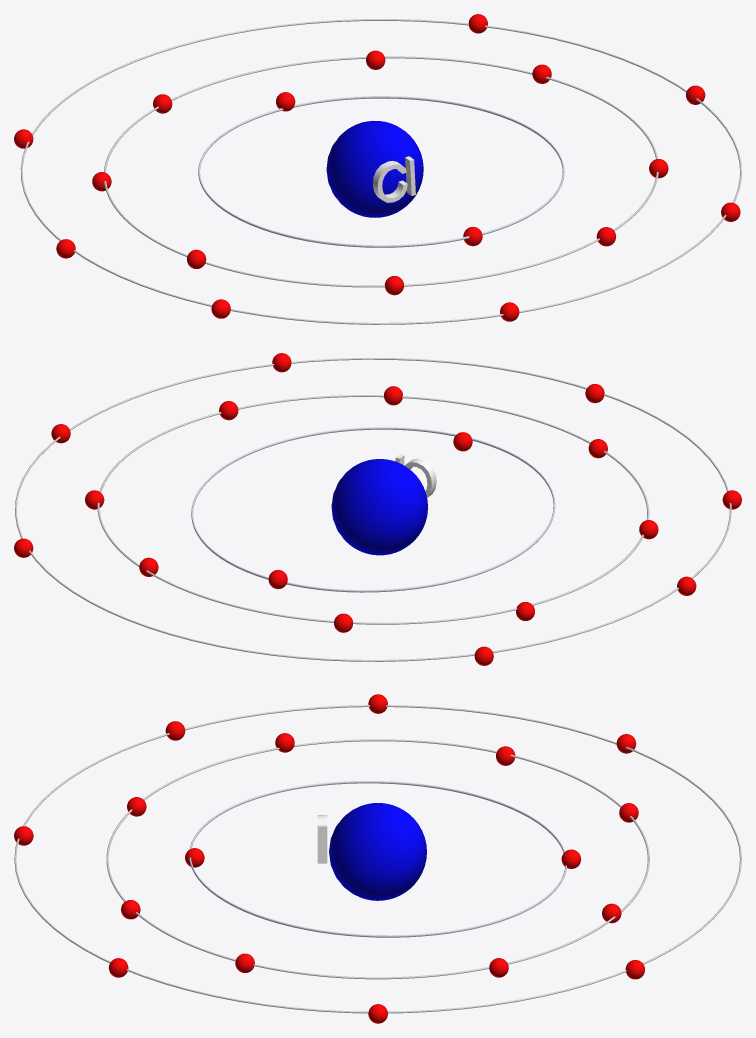
3 views of the same model, one above another, from view 1: azimuth 30°, elevation 25°; view 2: azimuth 150°, elevation 25°; view 3: azimuth 270°, elevation 25° (orthographic).
Parts seen in each view (by area): view 1: Sphere, Torus3, Torus2, Torus, Text; view 2: Sphere, Torus3, Torus2, Torus, Text; view 3: Sphere, Torus3, Torus2, Torus.
Part boxes in pixels (x1=…): Sphere: x1=326, y1=120, x2=423, y2=217; Torus3: x1=20, y1=19, x2=741, y2=324; Torus2: x1=104, y1=56, x2=658, y2=287; Torus: x1=198, y1=96, x2=564, y2=247; Text: x1=373, y1=156, x2=415, y2=202; Sphere: x1=331, y1=459, x2=427, y2=555; Torus3: x1=15, y1=358, x2=731, y2=661; Torus2: x1=97, y1=395, x2=649, y2=624; Torus: x1=191, y1=427, x2=555, y2=592; Text: x1=395, y1=454, x2=436, y2=497; Sphere: x1=329, y1=803, x2=426, y2=900; Torus3: x1=14, y1=705, x2=741, y2=1013; Torus2: x1=106, y1=739, x2=649, y2=979; Torus: x1=189, y1=781, x2=566, y2=937.
Size of the model in its own units: 7.68 by 0.9996 by 7.42.
